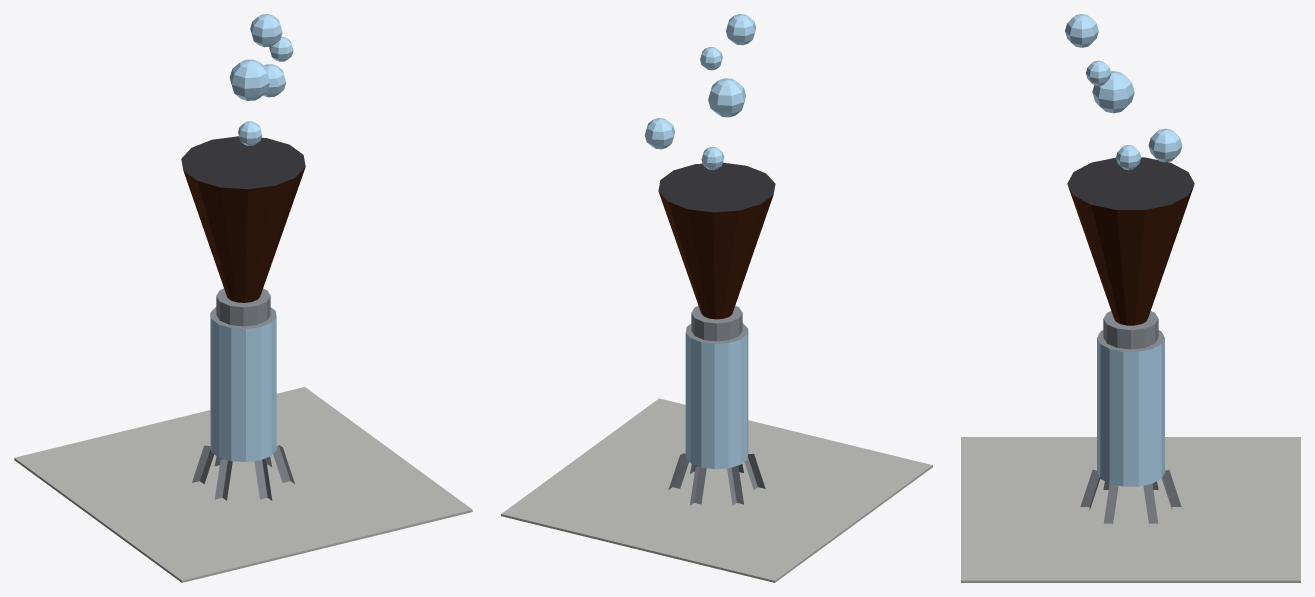
File: industry_other_bubble_generator_blower.glb
The picture shows the model from 3 angles, left to right: view 1: azimuth 30°, elevation 25°; view 2: azimuth 150°, elevation 25°; view 3: azimuth 270°, elevation 25°; orthographic projection. The views are drawn at different scales.
Size of the model in its own units: 16 by 25.78 by 16.
